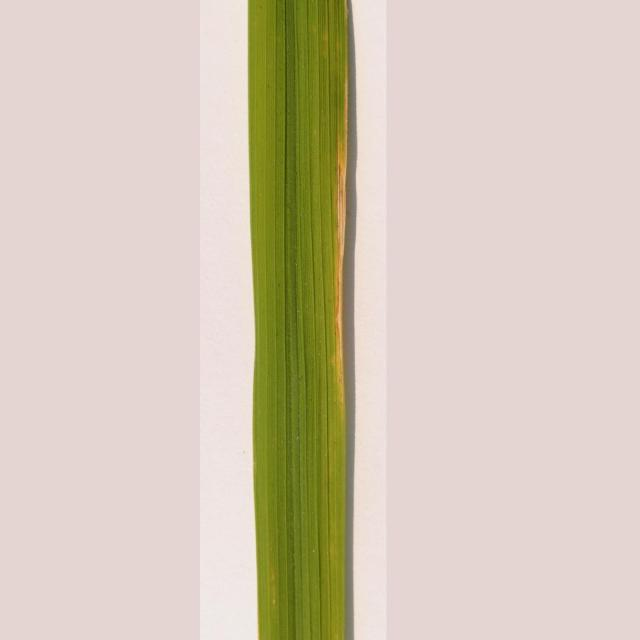Bacterial leaf blight: (204, 0, 378, 640)
